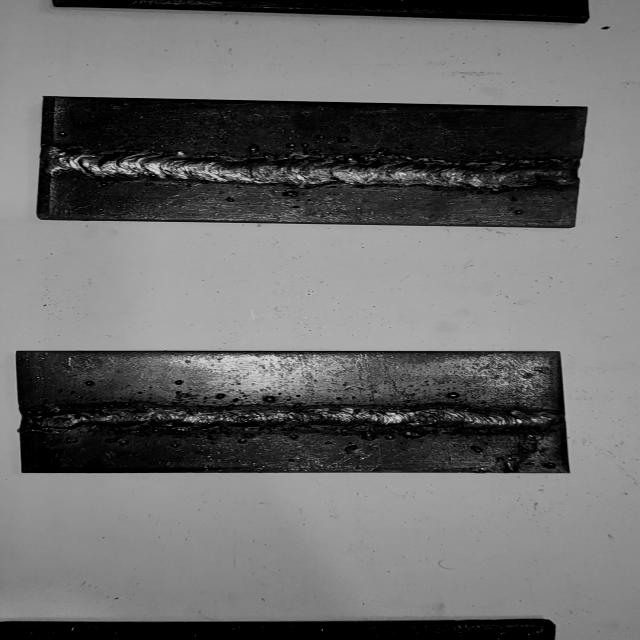Bad Weld: (29, 405, 560, 430)
Defect: (17, 393, 101, 444), (464, 430, 560, 471)
Good Weld: (52, 146, 575, 188)
